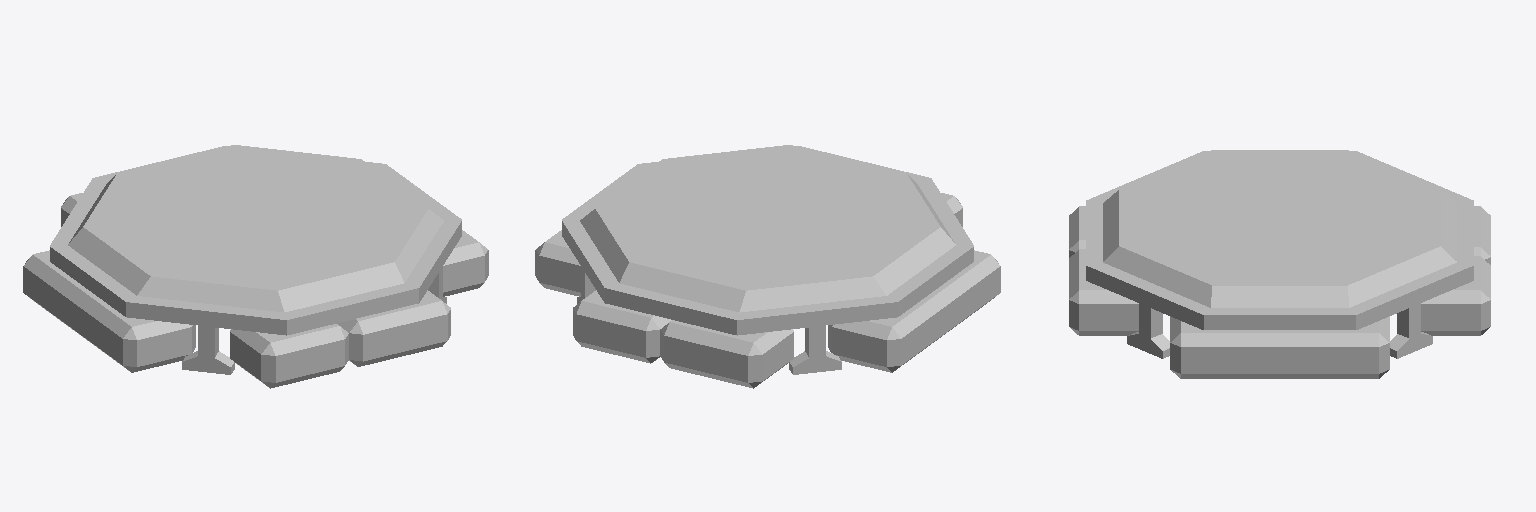
File: landingpad_large.obj
3 renders of one model, left to right at view 1: azimuth 30°, elevation 25°; view 2: azimuth 150°, elevation 25°; view 3: azimuth 270°, elevation 25°, orthographic.
Parts seen in each view (by area): view 1: landingpad_large_Cylinder.2686; view 2: landingpad_large_Cylinder.2686; view 3: landingpad_large_Cylinder.2686.
Part boxes in pixels (x1,y1,x2,y2): landingpad_large_Cylinder.2686: (23,145,488,388); landingpad_large_Cylinder.2686: (535,145,1000,388); landingpad_large_Cylinder.2686: (1069,150,1490,378).
Bounding box in the file's own units: 2.5 × 0.5 × 2.5.